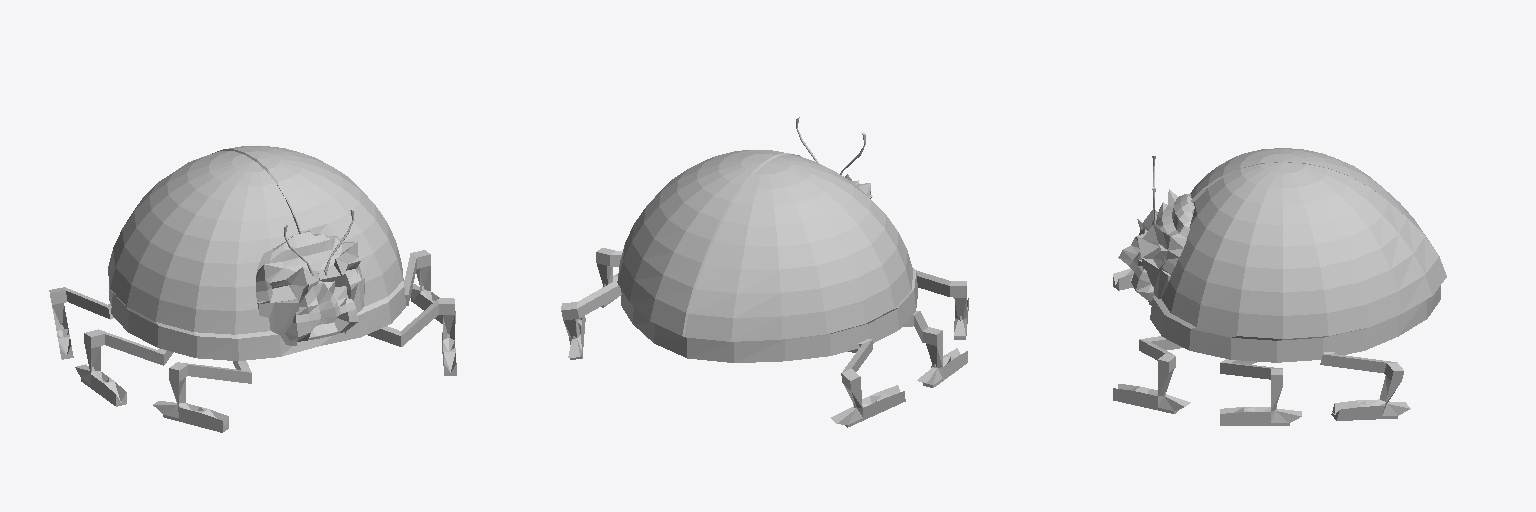
Rendered from MariquitaReExport.obj.
3 renders of one model, left to right at view 1: azimuth 30°, elevation 25°; view 2: azimuth 150°, elevation 25°; view 3: azimuth 270°, elevation 25°, orthographic.
Visible parts, largest first — view 1: mariquita:group1pSphere3, mariquita:polySurface1group1, mariquita:group1pSphere5, mariquita:group1pSphere4; view 2: mariquita:group1pSphere3, mariquita:polySurface1group1; view 3: mariquita:group1pSphere3, mariquita:polySurface1group1, mariquita:group1pSphere5, mariquita:group1pSphere4.
Boxes of the visible parts, x1=… form: mariquita:group1pSphere3: x1=108, y1=146, x2=405, y2=360; mariquita:polySurface1group1: x1=49, y1=250, x2=456, y2=432; mariquita:group1pSphere5: x1=256, y1=231, x2=364, y2=345; mariquita:group1pSphere4: x1=285, y1=281, x2=357, y2=341; mariquita:group1pSphere3: x1=617, y1=150, x2=917, y2=362; mariquita:polySurface1group1: x1=561, y1=248, x2=968, y2=427; mariquita:group1pSphere3: x1=1150, y1=148, x2=1446, y2=362; mariquita:polySurface1group1: x1=1113, y1=268, x2=1410, y2=425; mariquita:group1pSphere5: x1=1137, y1=189, x2=1194, y2=305; mariquita:group1pSphere4: x1=1118, y1=229, x2=1153, y2=301.
Size of the model in its own units: 7.63 by 4.07 by 6.49.